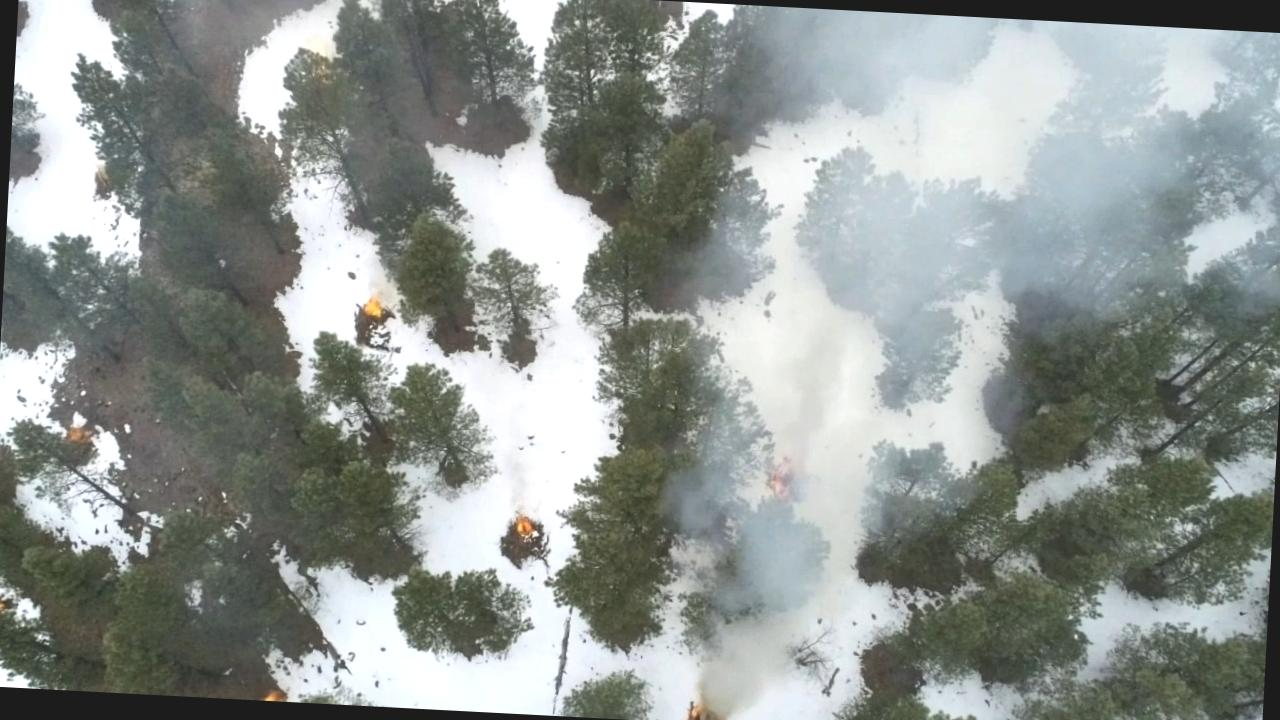fire: (509, 501, 542, 537), (360, 290, 390, 316)
smoke: (672, 2, 1280, 301), (664, 274, 1112, 570), (698, 554, 806, 652)
